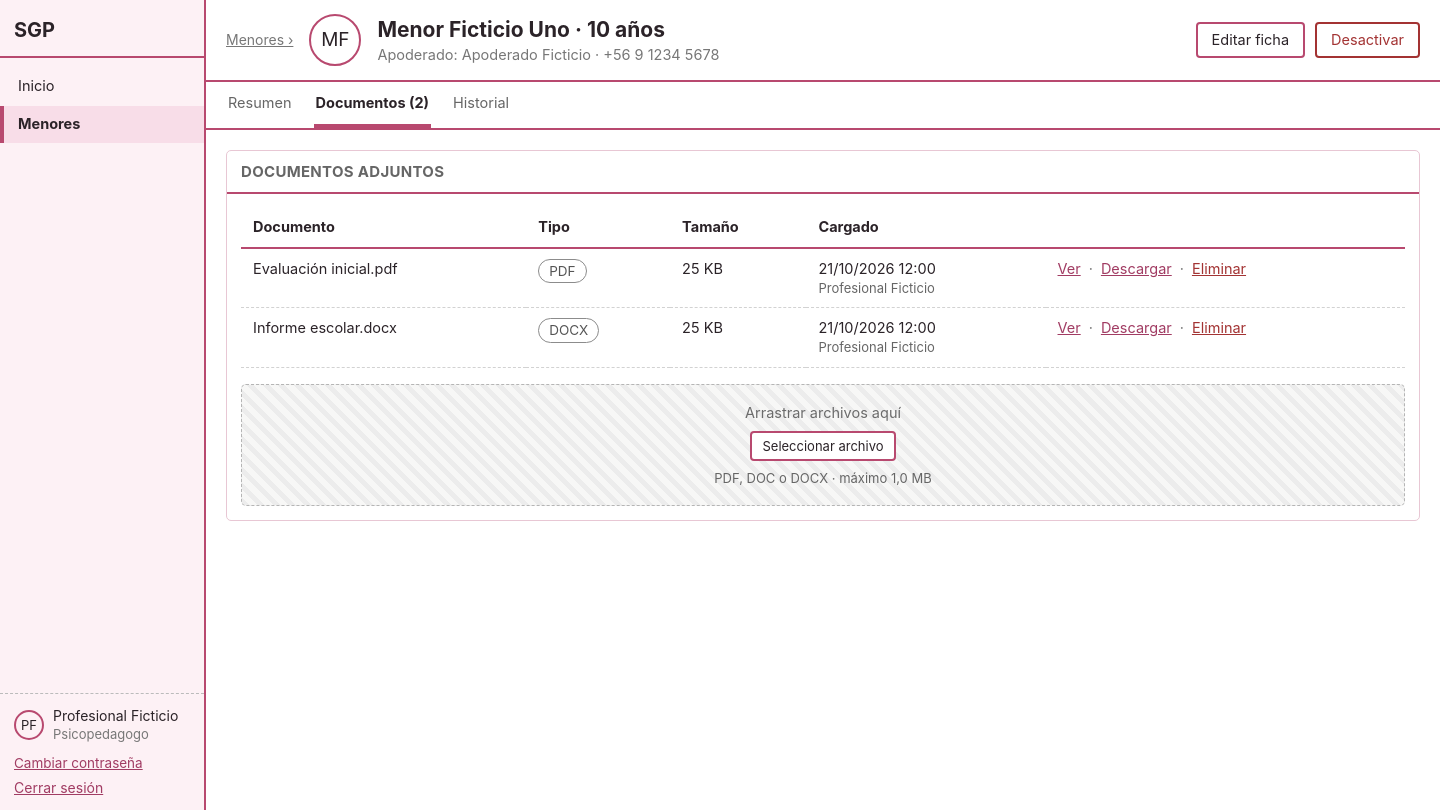
Test: Visualización en la página › informa cuando el documento no se puede abrir
Expected: the tab "Documentos (2)" is shown, 314,82 -> 431,128
Click the button with aria-label "Ver Evaluación inicial.pdf": [1069, 269] box 1058,259 -> 1081,279
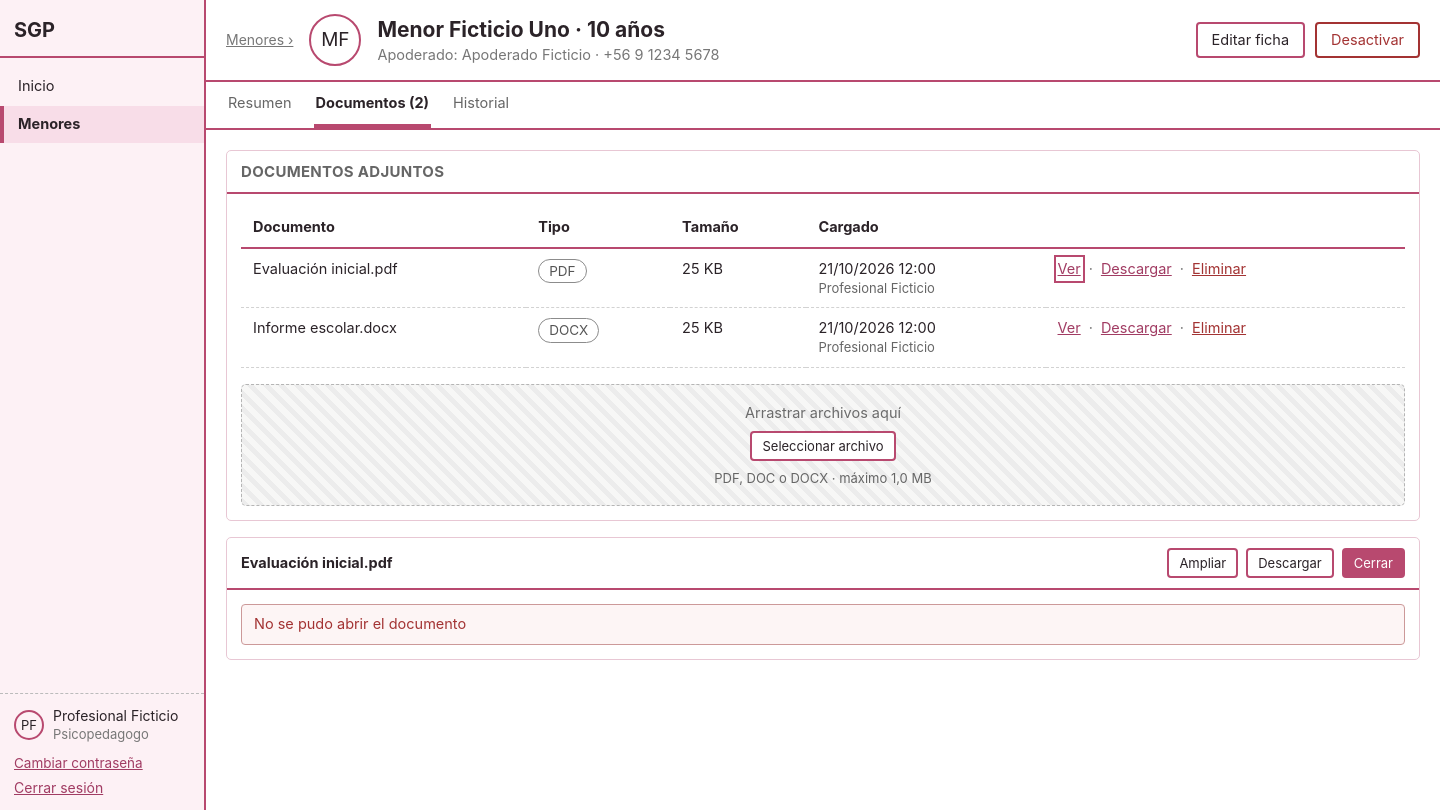
Result: the message reads "No se pudo abrir el documento" at 254,615 -> 466,632
